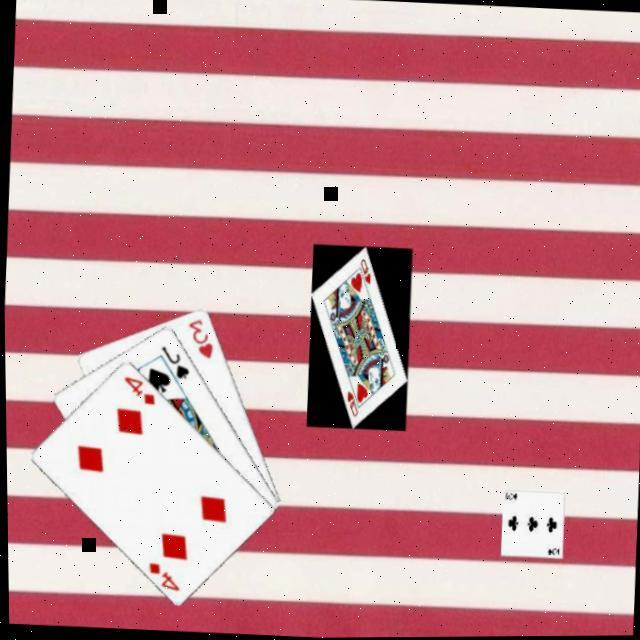3H: (184, 316, 218, 363)
4D: (120, 373, 160, 409), (144, 560, 184, 596)
JS: (158, 344, 194, 384)
